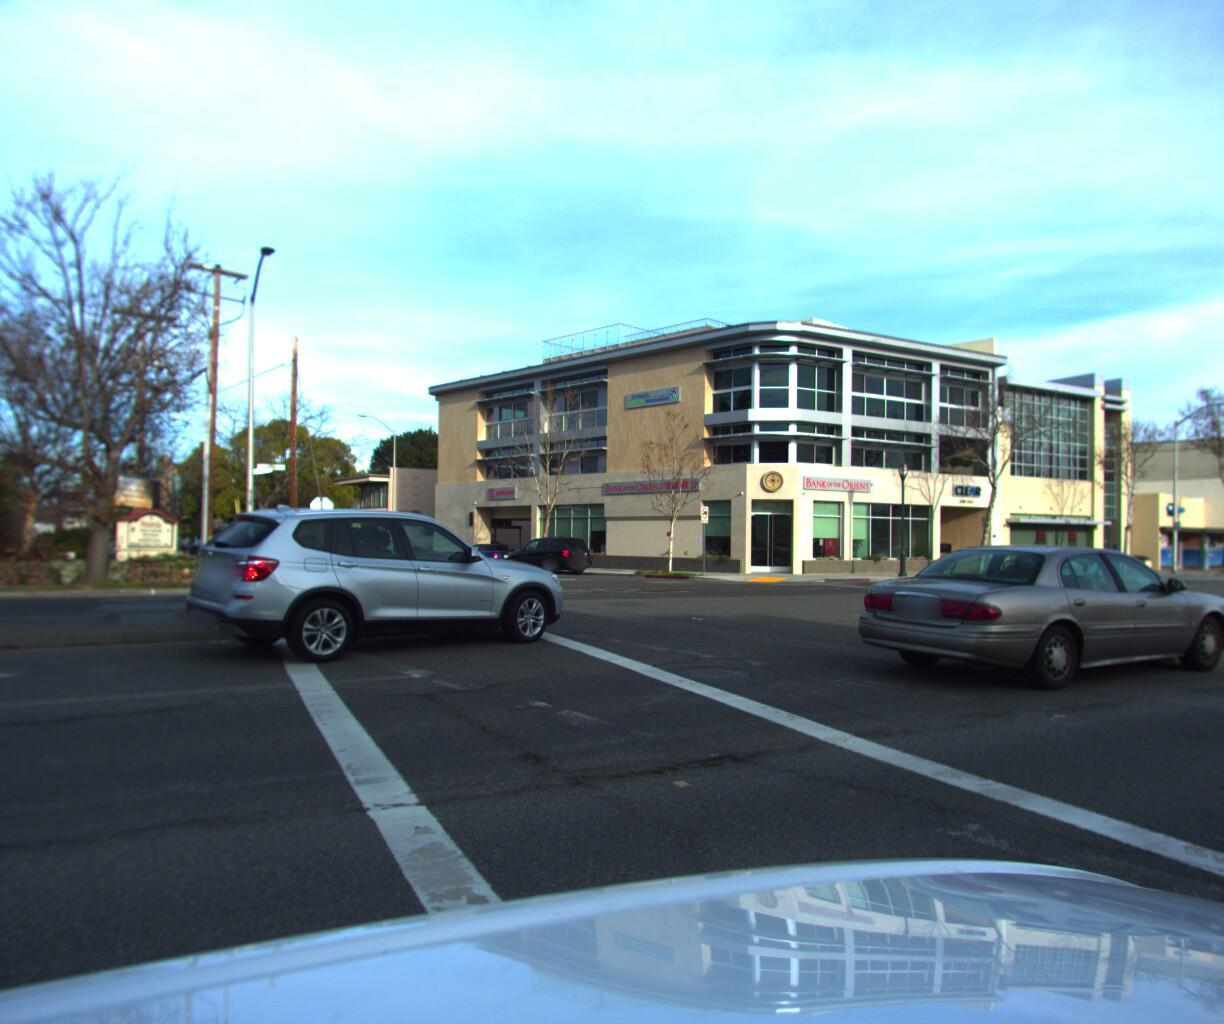car: (160, 498, 559, 678), (830, 542, 1224, 715), (504, 532, 598, 574), (1015, 544, 1111, 577), (444, 537, 523, 570)
